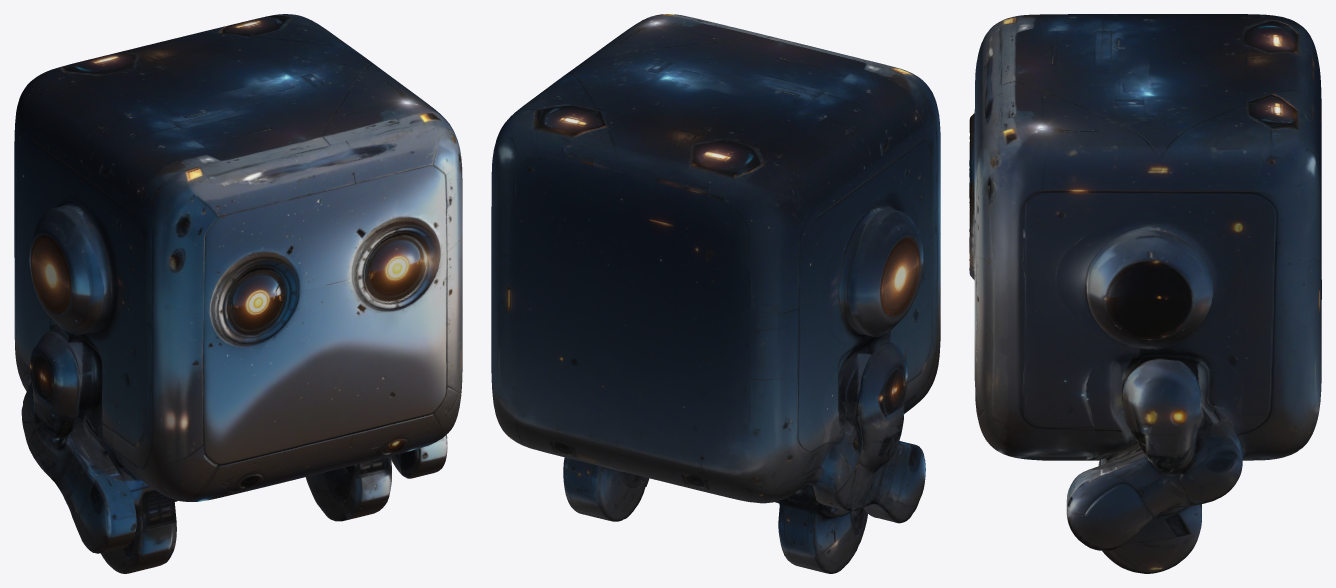
Rendered from cuby.glb.
The picture shows the model from 3 angles, left to right: view 1: azimuth 30°, elevation 25°; view 2: azimuth 150°, elevation 25°; view 3: azimuth 270°, elevation 25°; orthographic projection.
Visible parts, largest first — view 1: Mesh_0_Material_0_0; view 2: Mesh_0_Material_0_0; view 3: Mesh_0_Material_0_0.
Part boxes in pixels (box(x1,y1,x2,y2)): Mesh_0_Material_0_0: box(14, 14, 462, 573); Mesh_0_Material_0_0: box(491, 14, 940, 573); Mesh_0_Material_0_0: box(969, 14, 1321, 573).
Bounding box in the file's own units: 1.73 × 2 × 1.44.
Materials: 1 (1 with a texture image).
